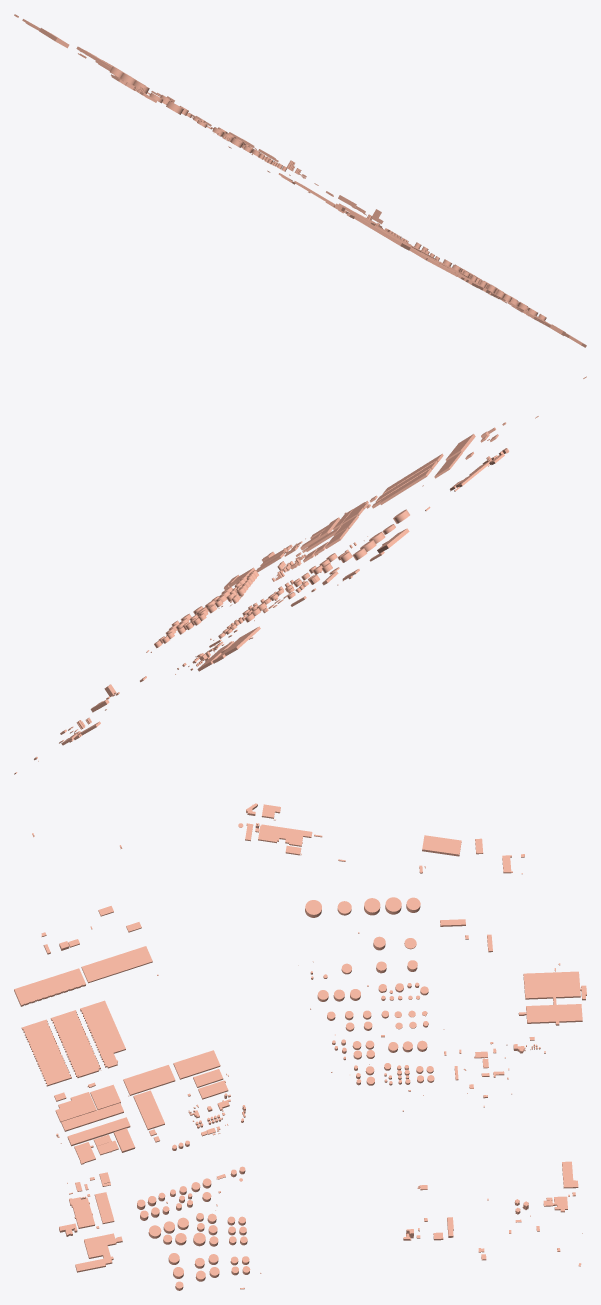
3 views of the same model, one above another, from view 1: azimuth 30°, elevation 25°; view 2: azimuth 150°, elevation 25°; view 3: azimuth 270°, elevation 25° (orthographic). The views are drawn at different scales.
Size of the model in its own units: 1907 by 1448 by 2476.
